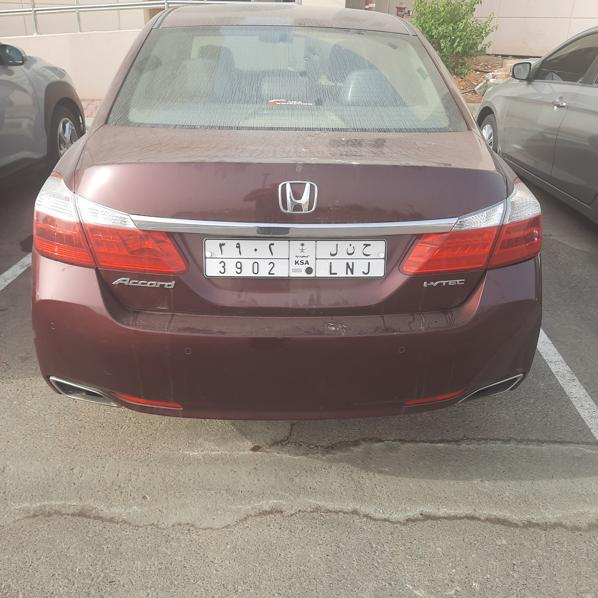numberplate: (205, 238, 385, 278)
